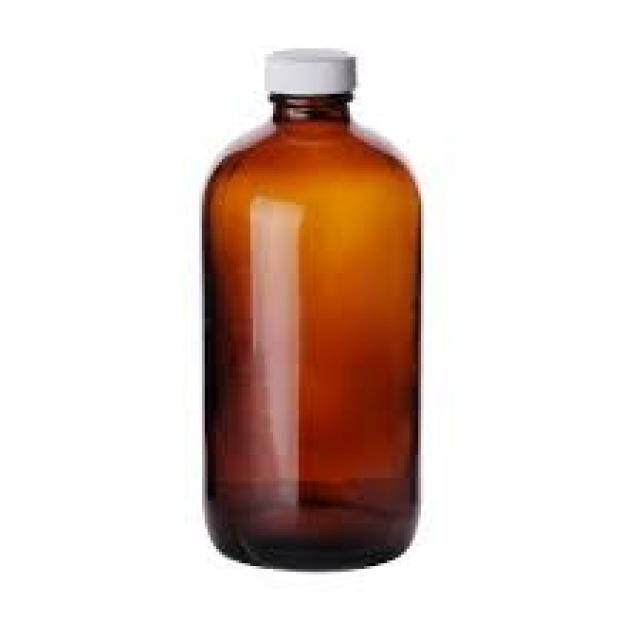Glass: (195, 44, 429, 579)
